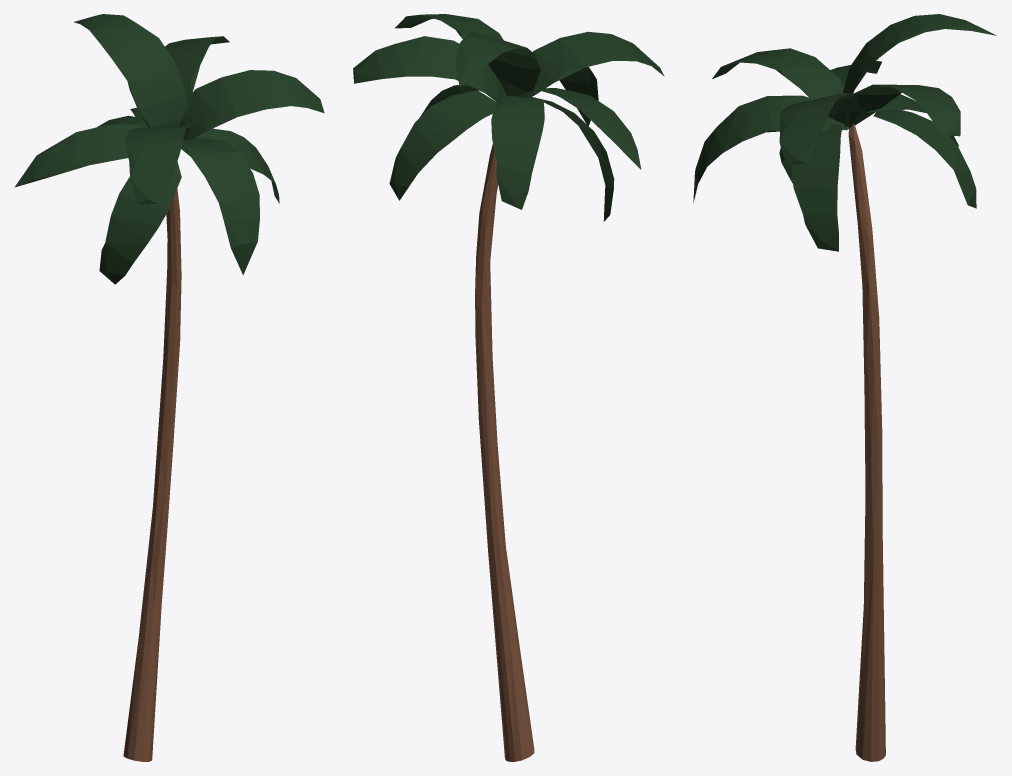
Rendered from SM_tree_palm_01.fbx.
3 renders of one model, left to right at view 1: azimuth 30°, elevation 25°; view 2: azimuth 150°, elevation 25°; view 3: azimuth 270°, elevation 25°, orthographic. The views are drawn at different scales.
Visible parts, largest first — view 1: Object259; view 2: Object259; view 3: Object259.
Boxes of the visible parts, x1,y1,x2,y2 form: Object259: (14,14,324,761); Object259: (353,14,664,761); Object259: (693,14,996,761).
Size of the model in its own units: 124 by 116 by 310.
